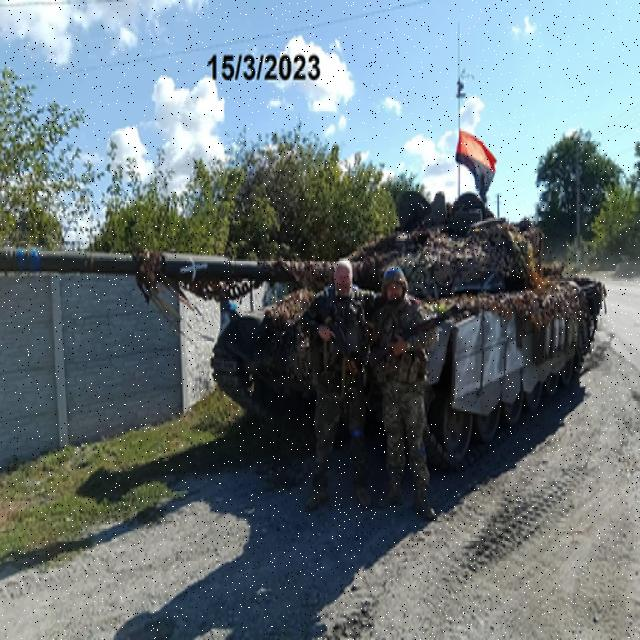TANK: (0, 191, 605, 467)
